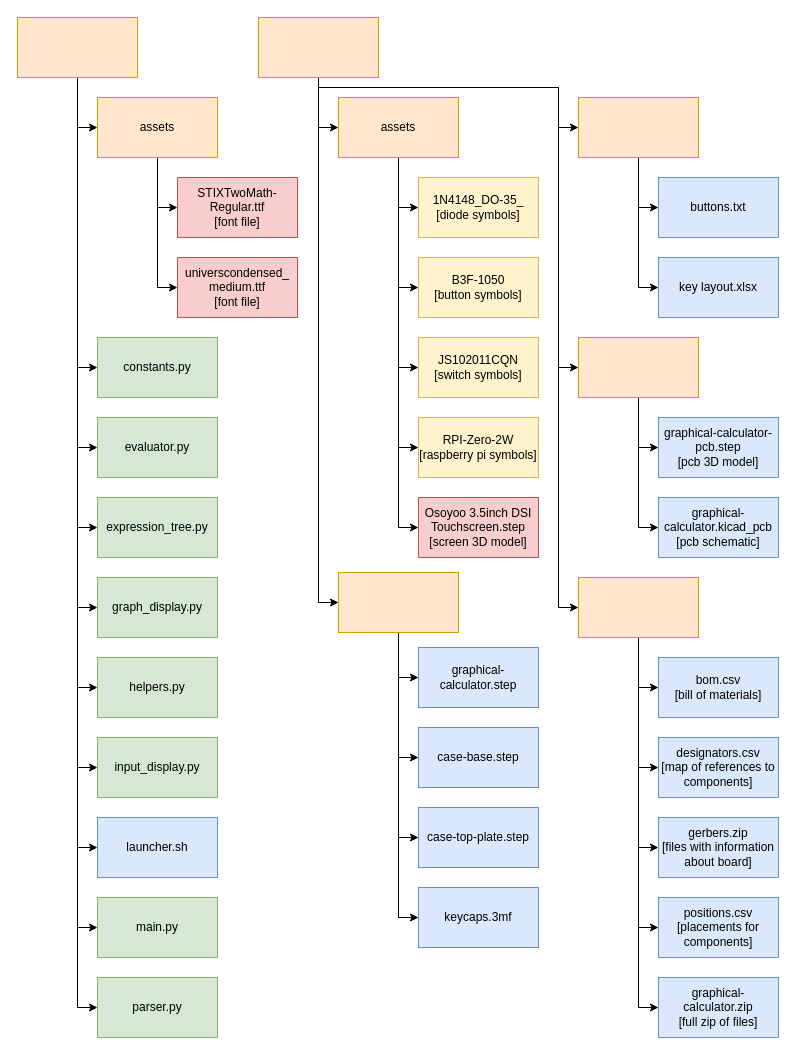
Image size: 796x1055. Some labels were removed from this diagram. Each missing label, with the centre of its shape:
"cad [3D models]" goes at (x=398, y=602).
"code" goes at (x=77, y=47).
"design" goes at (x=638, y=127).
"hardware" goes at (x=318, y=47).
"pcb" goes at (x=638, y=367).
"production" goes at (x=638, y=607).
